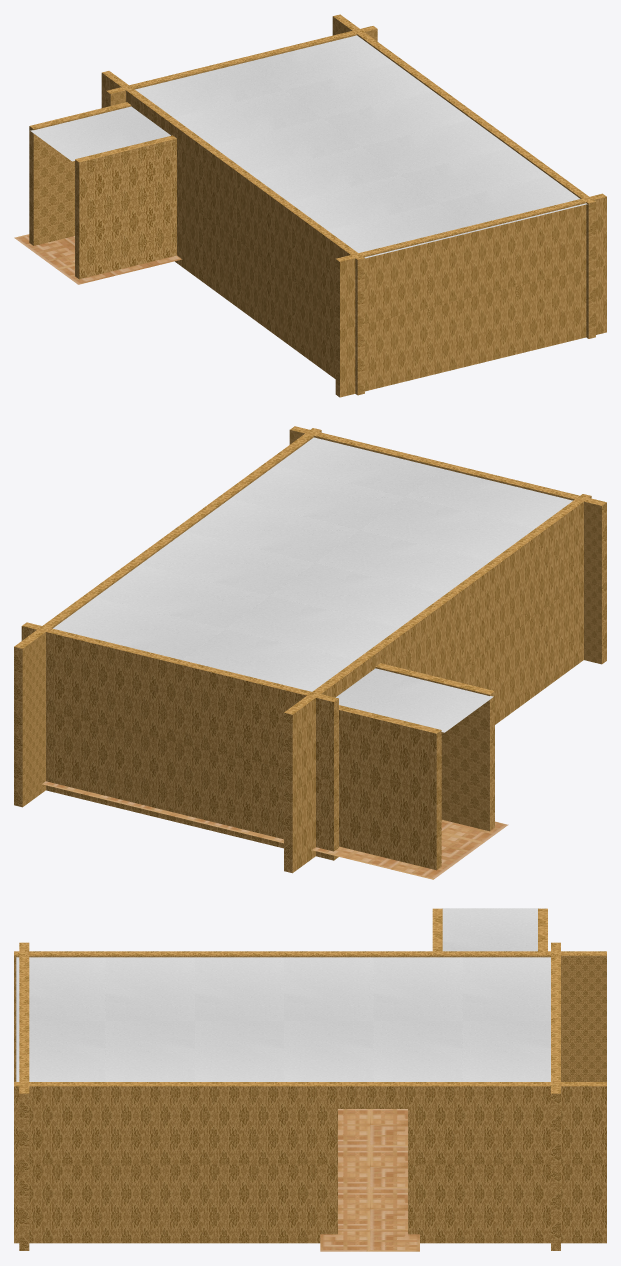
File: Room_1.fbx
The picture shows the model from 3 angles, top to bottom: view 1: azimuth 30°, elevation 25°; view 2: azimuth 150°, elevation 25°; view 3: azimuth 270°, elevation 25°; orthographic projection. The views are drawn at different scales.
Visible parts, largest first — view 1: Cube.034, Cube.033, Cube.032, Cube.029, Cube.031, Cube.030, Cube.003, Cube.035, Plane.081, Plane.085, Plane.082, Plane.086 (+25 smaller); view 2: Cube.035, Cube.008, Cube.006, Cube.005, Cube.009, Cube.034, Cube.004, Cube.007, Plane.081, Plane.085, Plane.082, Plane.086 (+30 smaller); view 3: Cube.026, Cube.025, Cube.022, Cube.028, Cube.001, Cube.027, Cube.024, Cube.023, Cube.021, Cube.010, Plane.077, Plane.081 (+40 smaller).
Part boxes in pixels (x1=…): Cube.034: x1=75, y1=135, x2=176, y2=279; Cube.033: x1=335, y1=237, x2=430, y2=329; Cube.032: x1=424, y1=216, x2=518, y2=306; Cube.029: x1=427, y1=286, x2=518, y2=375; Cube.031: x1=512, y1=193, x2=606, y2=285; Cube.030: x1=335, y1=307, x2=430, y2=397; Cube.003: x1=515, y1=265, x2=606, y2=354; Cube.035: x1=29, y1=102, x2=131, y2=245; Plane.081: x1=212, y1=118, x2=360, y2=173; Plane.085: x1=289, y1=175, x2=437, y2=230; Plane.082: x1=323, y1=91, x2=471, y2=146; Plane.086: x1=400, y1=148, x2=548, y2=202; Cube.035: x1=339, y1=705, x2=441, y2=870; Cube.008: x1=124, y1=647, x2=231, y2=755; Cube.006: x1=124, y1=730, x2=230, y2=834; Cube.005: x1=227, y1=672, x2=338, y2=780; Cube.009: x1=21, y1=622, x2=128, y2=730; Cube.034: x1=375, y1=663, x2=494, y2=831; Cube.004: x1=227, y1=755, x2=338, y2=860; Cube.007: x1=46, y1=711, x2=128, y2=809; Plane.081: x1=270, y1=563, x2=444, y2=627; Plane.085: x1=360, y1=497, x2=534, y2=561; Plane.082: x1=140, y1=531, x2=314, y2=595; Plane.086: x1=231, y1=465, x2=404, y2=529; Cube.026: x1=131, y1=1082, x2=249, y2=1165; Cube.025: x1=131, y1=1164, x2=249, y2=1243; Cube.022: x1=484, y1=1082, x2=606, y2=1165; Cube.028: x1=14, y1=1082, x2=131, y2=1165; Cube.001: x1=484, y1=1164, x2=606, y2=1243; Cube.027: x1=14, y1=1164, x2=131, y2=1243; Cube.024: x1=249, y1=1082, x2=366, y2=1165; Cube.023: x1=367, y1=1082, x2=484, y2=1165; Cube.021: x1=249, y1=1164, x2=337, y2=1243; Cube.010: x1=408, y1=1164, x2=484, y2=1243; Plane.077: x1=373, y1=957, x2=462, y2=1020; Plane.081: x1=284, y1=957, x2=373, y2=1020.
Size of the model in its own units: 2002 by 696 by 2380.
